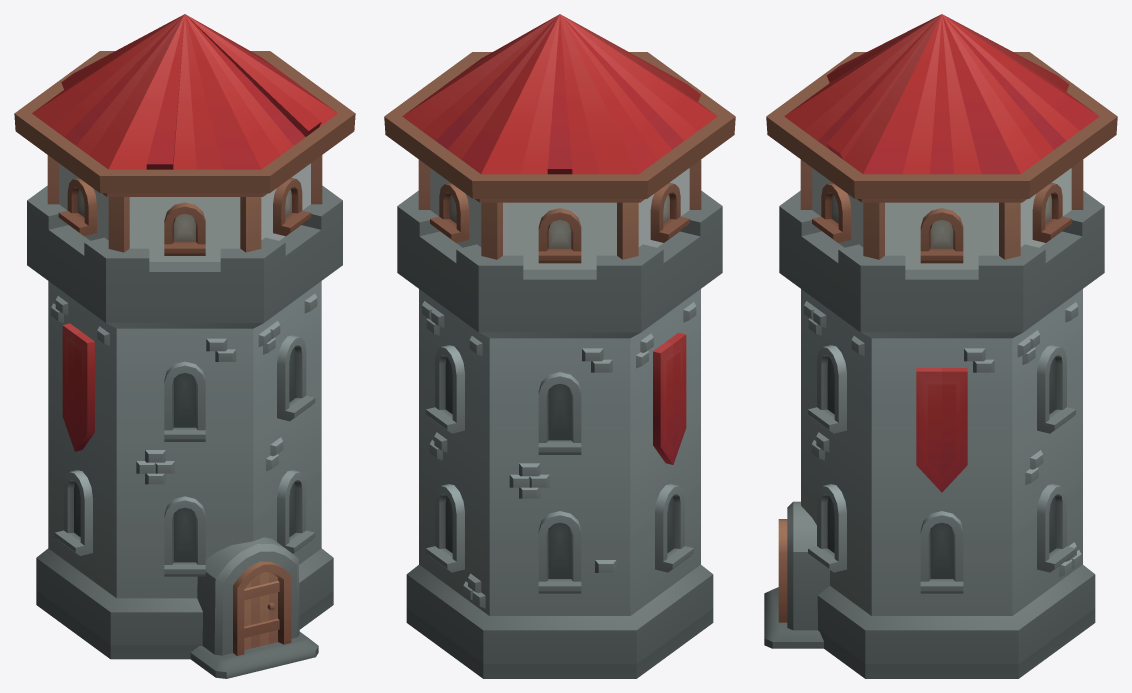
The model's file is building_tower_A-c4w1LaXp.glb.
3 renders of one model, left to right at view 1: azimuth 30°, elevation 25°; view 2: azimuth 150°, elevation 25°; view 3: azimuth 270°, elevation 25°, orthographic. The views are drawn at different scales.
Visible parts, largest first — view 1: building_tower_A_red, building_tower_A_top_red; view 2: building_tower_A_red, building_tower_A_top_red; view 3: building_tower_A_red, building_tower_A_top_red.
Boxes of the visible parts, x1,y1,x2,y2 form: building_tower_A_red: [27, 185, 342, 678]; building_tower_A_top_red: [14, 14, 355, 261]; building_tower_A_red: [397, 190, 722, 678]; building_tower_A_top_red: [384, 14, 735, 269]; building_tower_A_red: [764, 190, 1104, 678]; building_tower_A_top_red: [766, 14, 1117, 269].
Bounding box in the file's own units: 5.46 × 12.05 × 6.34.
Materials: 1 (1 with a texture image).
